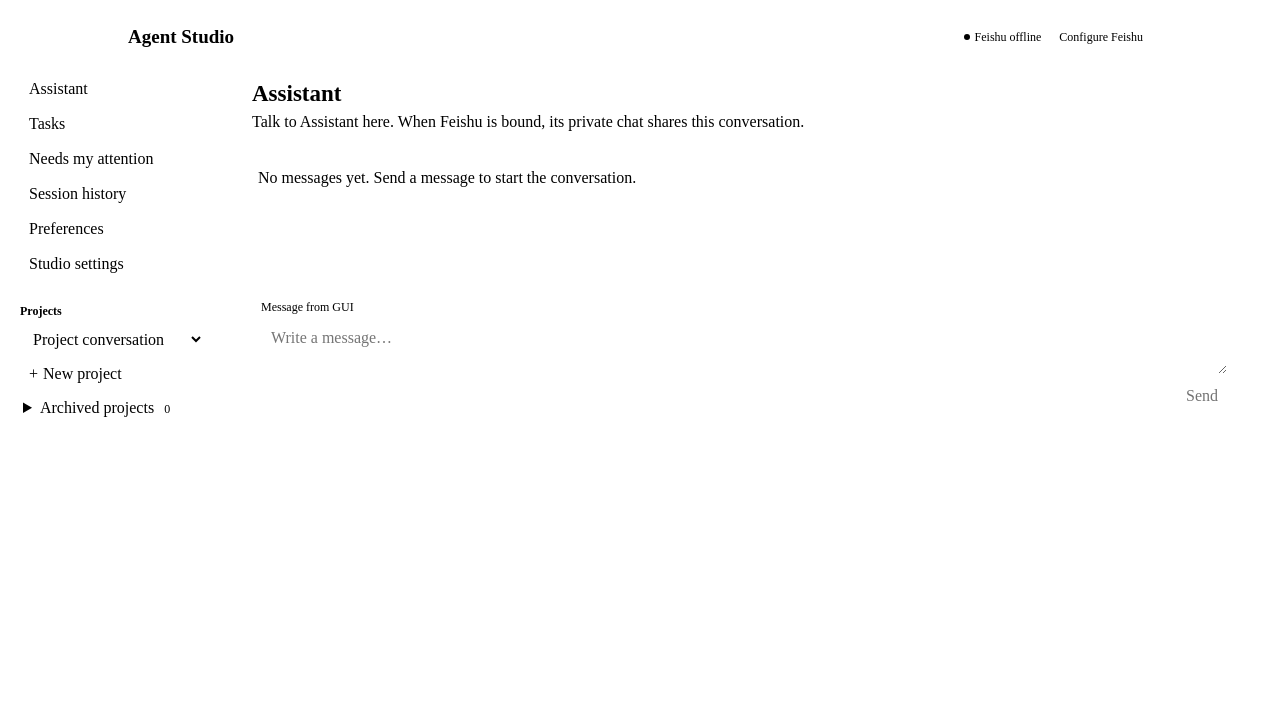
shows the Host version and current browser build, then offers a manual refresh only for a mismatch
This screenshot has width=1280, height=720.
Click the button "Studio settings".
click(112, 264)  # box [20, 249, 204, 279]
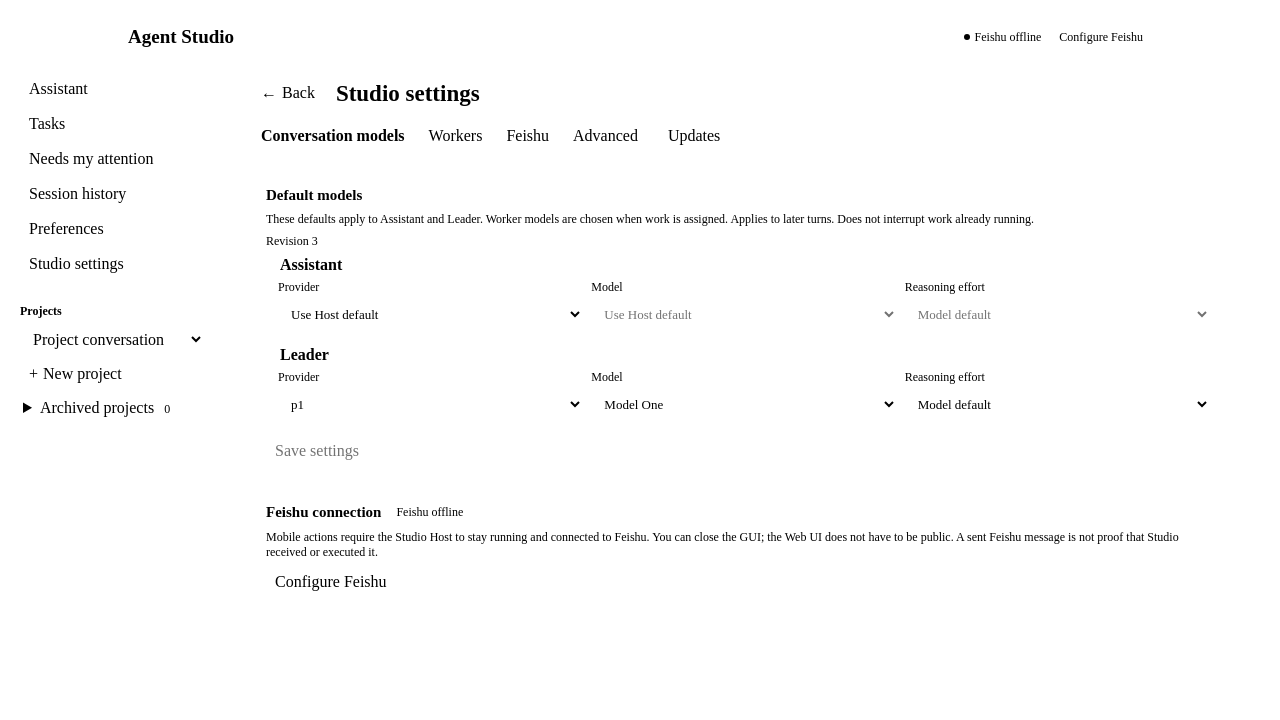
Click the button "Updates".
click(694, 136)  # box [659, 121, 729, 151]
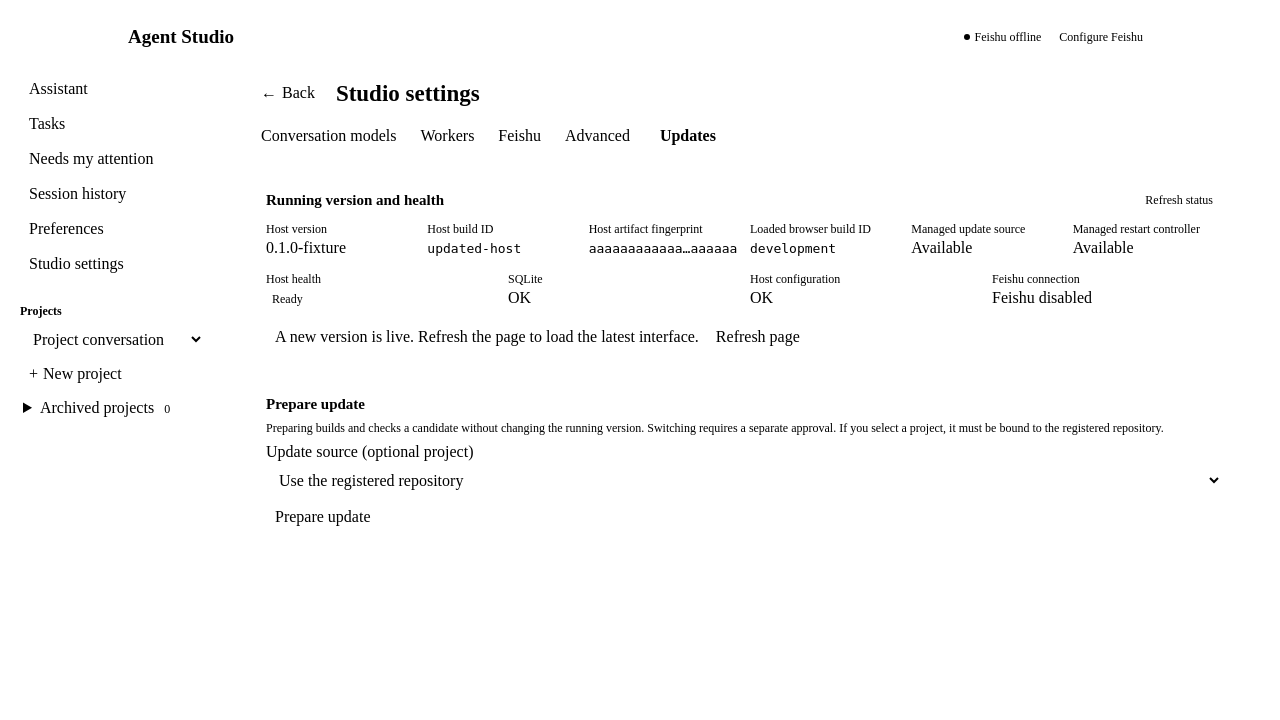
Expected: the text "0.1.0-fixture" is shown, [266, 239, 346, 256]
Expected: the text "updated-host" is shown, [427, 241, 521, 256]
Expected: the text "development" is shown, [750, 241, 836, 256]
Click the button "Refresh status".
click(1179, 200)  # box [1136, 185, 1222, 215]
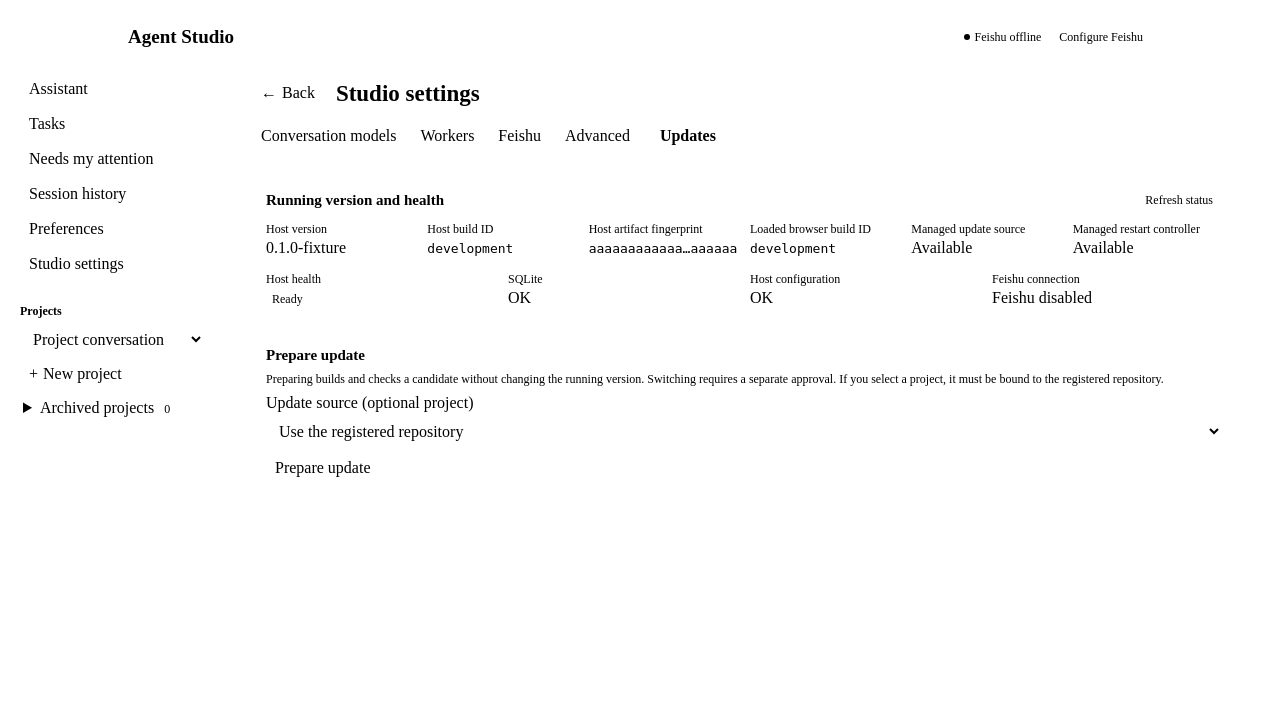
Expected: the text "A new version is live. Refresh the page to load the latest interface." is gone
